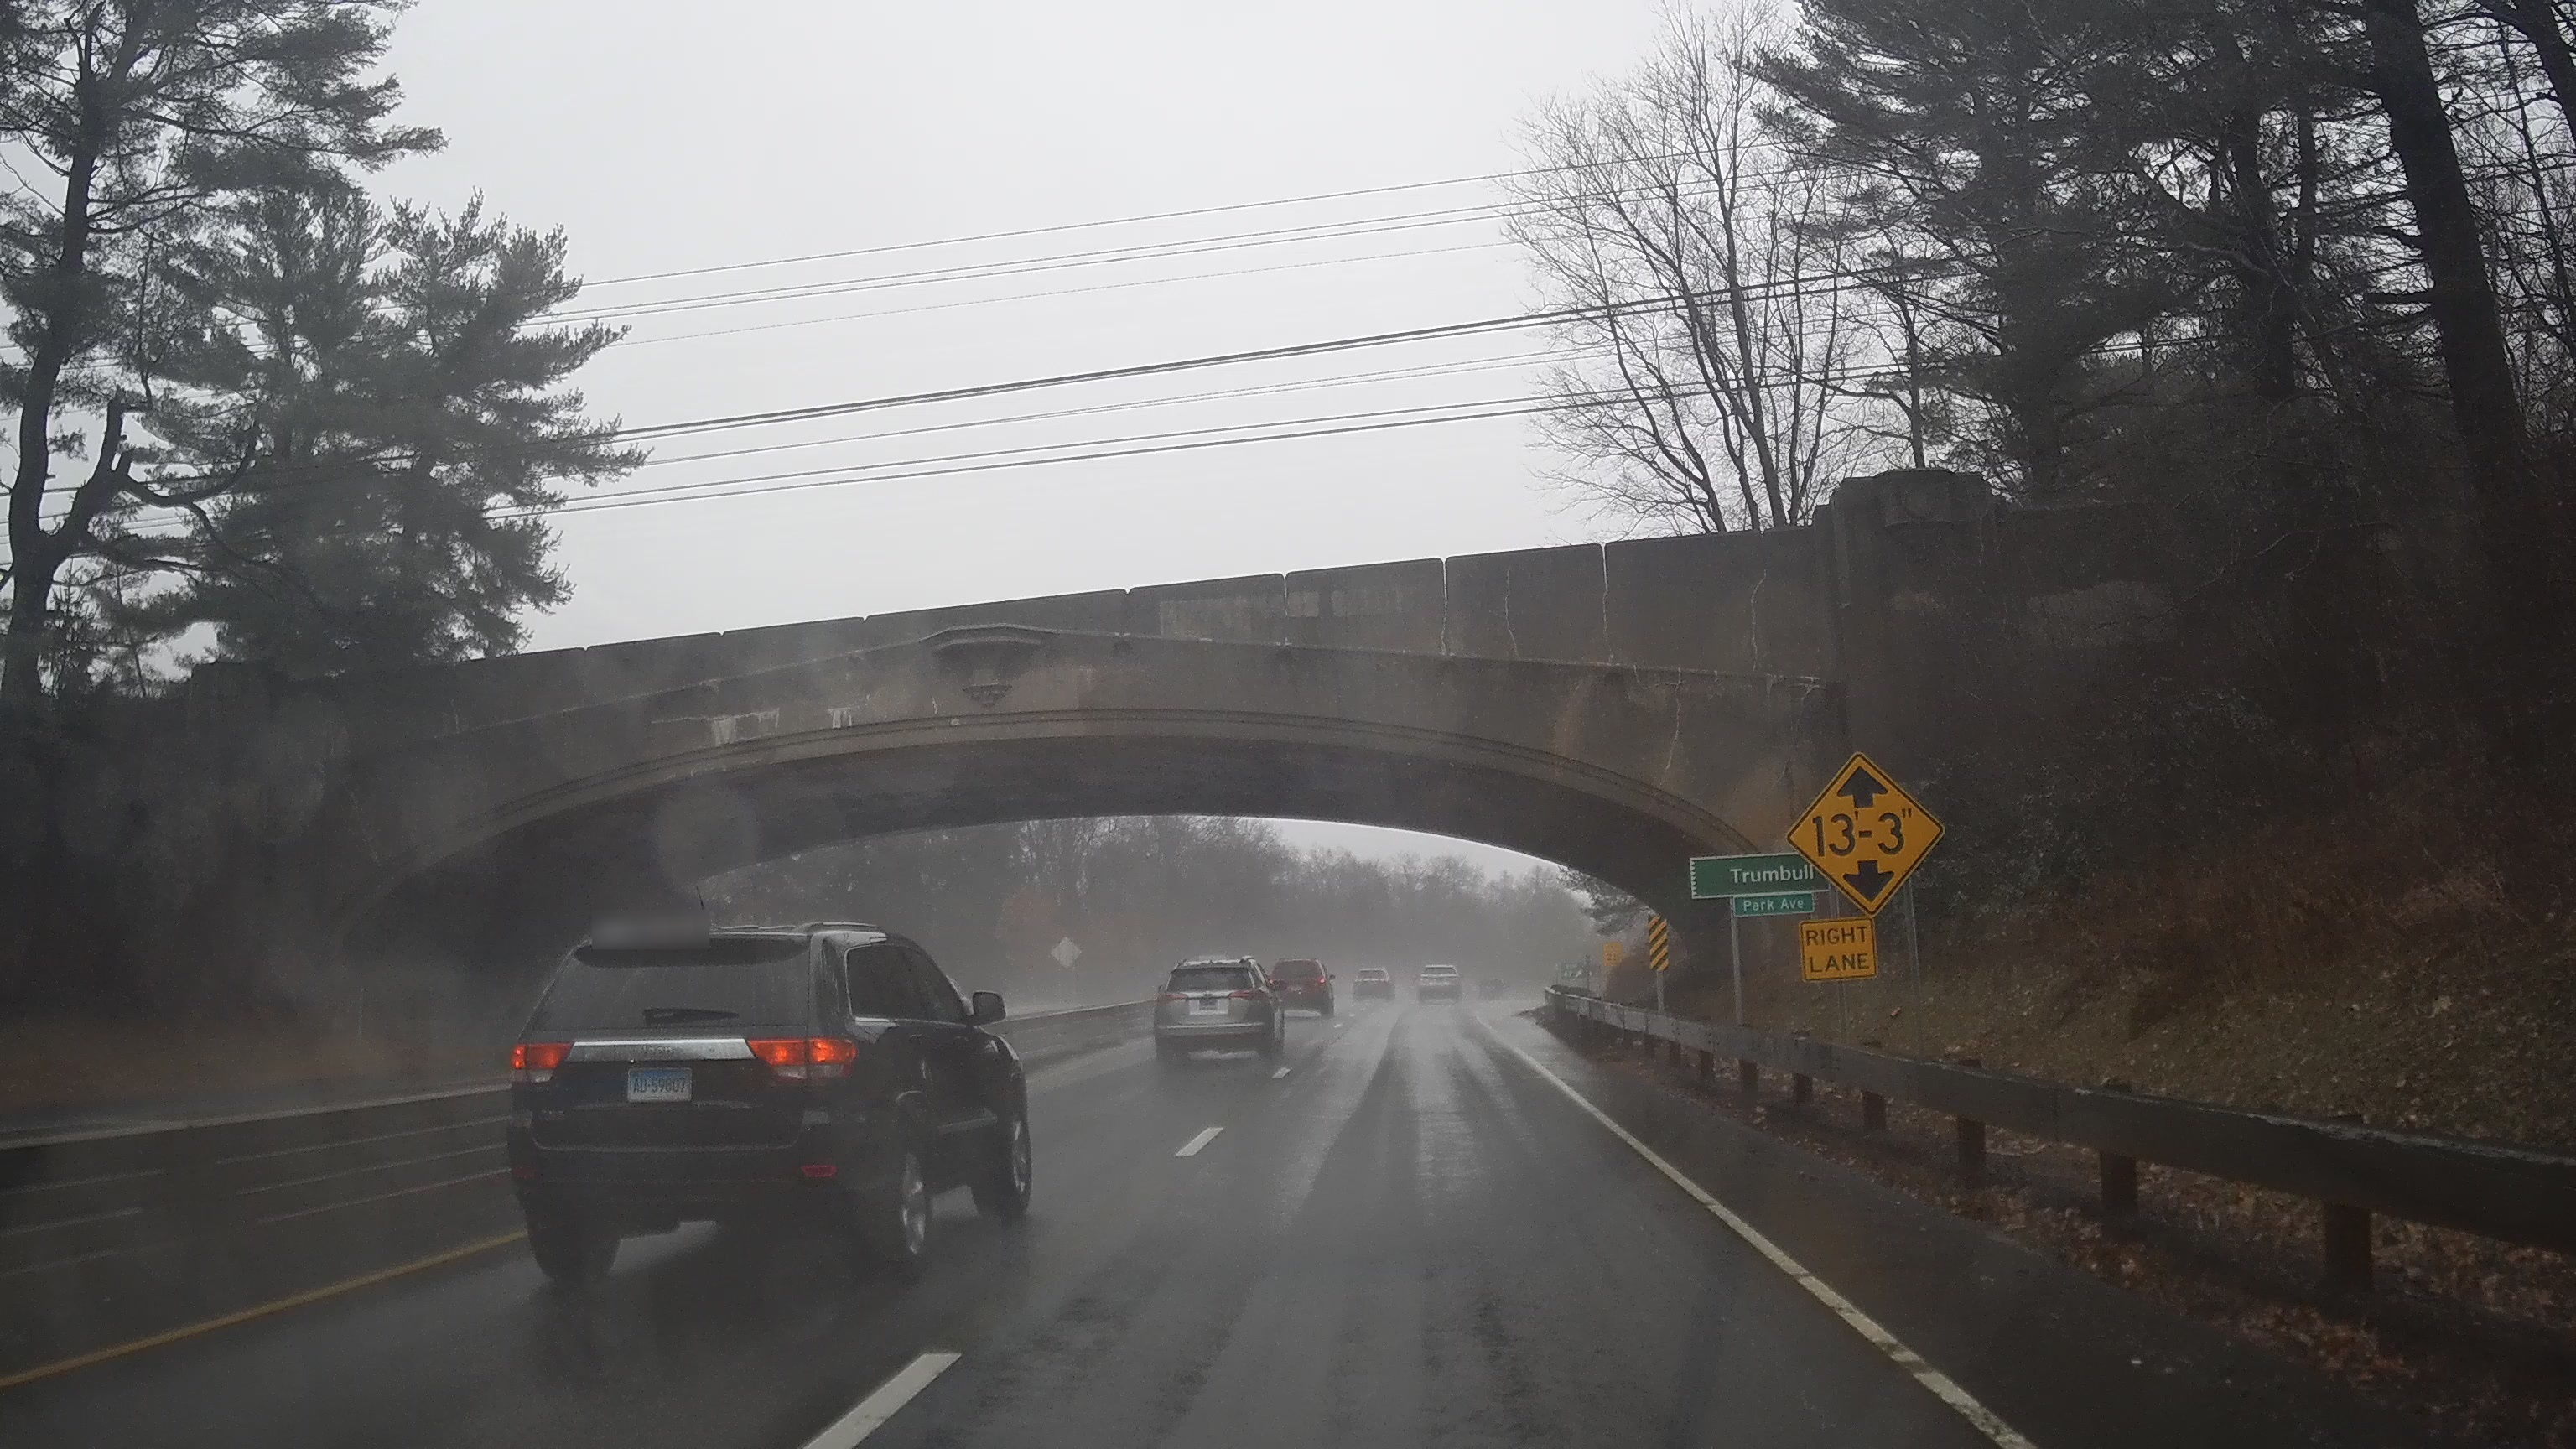low-clearance-sign: (1785, 752, 1946, 918)
